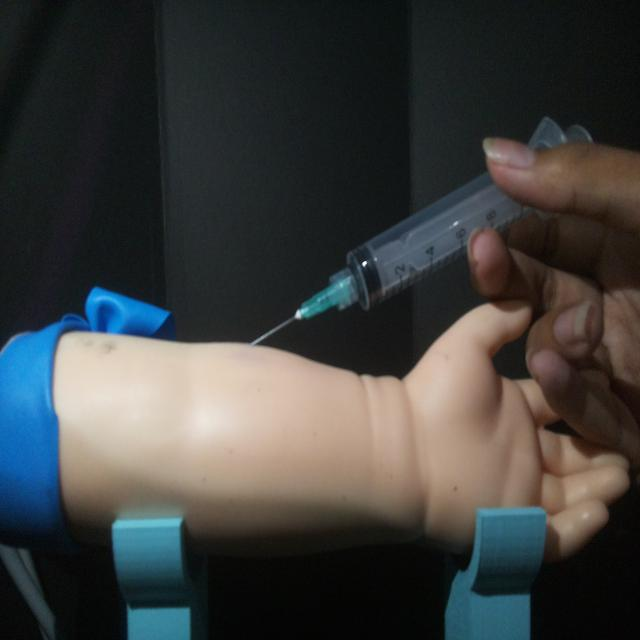29deg: (244, 110, 598, 356)
